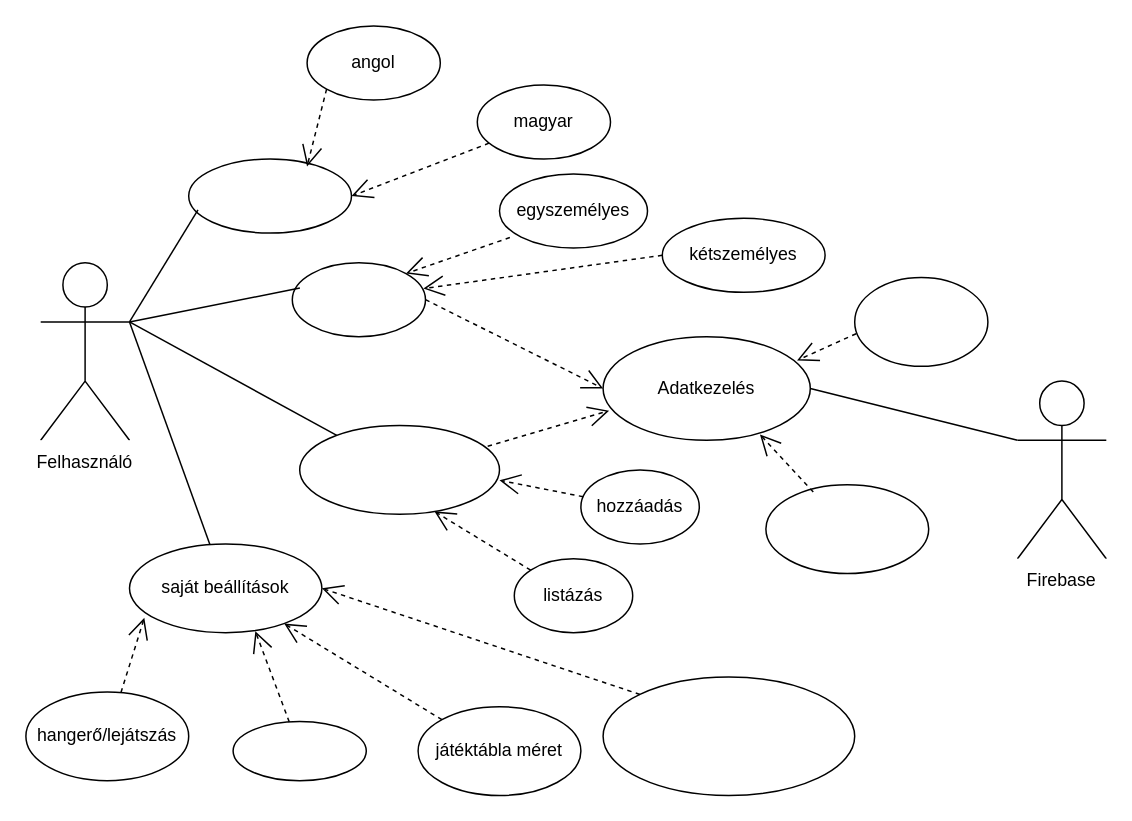
This 1132x821 diagram has some shape labels left out. Each missing label, with the centre of its shape:
"egyszemélyes/kátszemélyes" belongs at (728,736).
"Firestore adatbázis" belongs at (920,321).
"idő" belongs at (299,750).
"játék" belongs at (358,299).
"játék eredméynének elmentése" belongs at (399,469).
"képek betöktése Storage-ból" belongs at (846,528).
"nyelv beállítása" belongs at (269,195).
